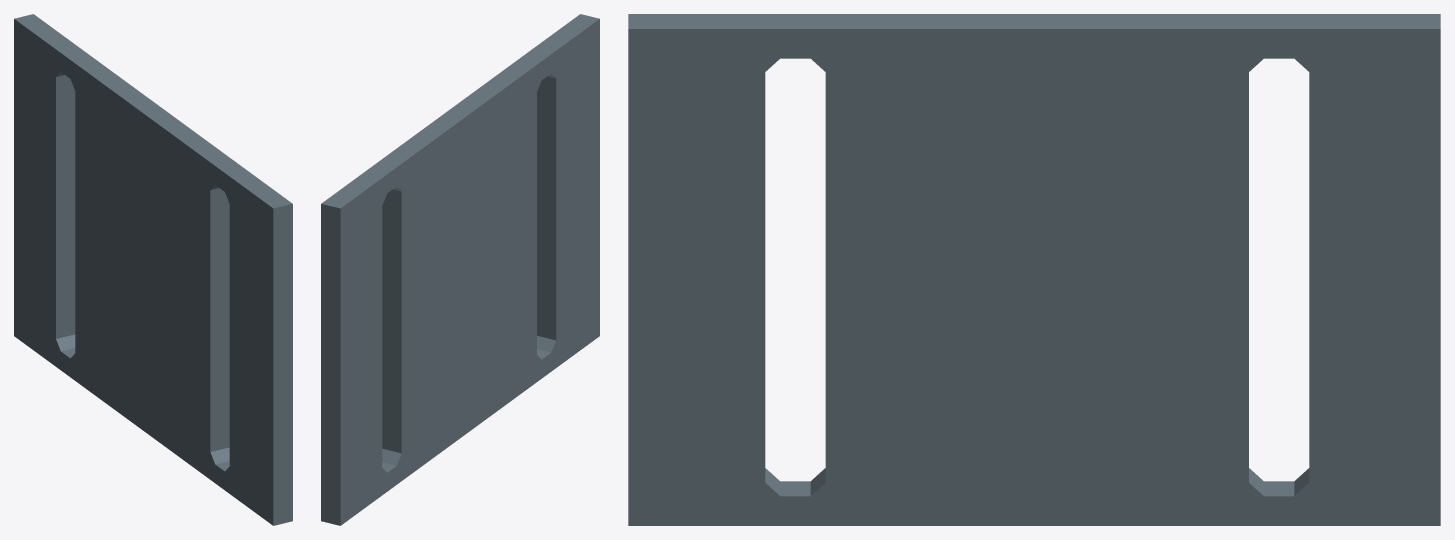
The model's file is plaka 4.fbx.
3 renders of one model, left to right at view 1: azimuth 30°, elevation 25°; view 2: azimuth 150°, elevation 25°; view 3: azimuth 270°, elevation 25°, orthographic. The views are drawn at different scales.
Visible parts, largest first — view 1: pCube408; view 2: pCube408; view 3: pCube408.
Part boxes in pixels (bbox=[...]): pCube408: bbox=[14, 14, 292, 525]; pCube408: bbox=[321, 14, 599, 525]; pCube408: bbox=[628, 14, 1440, 525].
Size of the model in its own units: 8.92 by 139 by 206.
